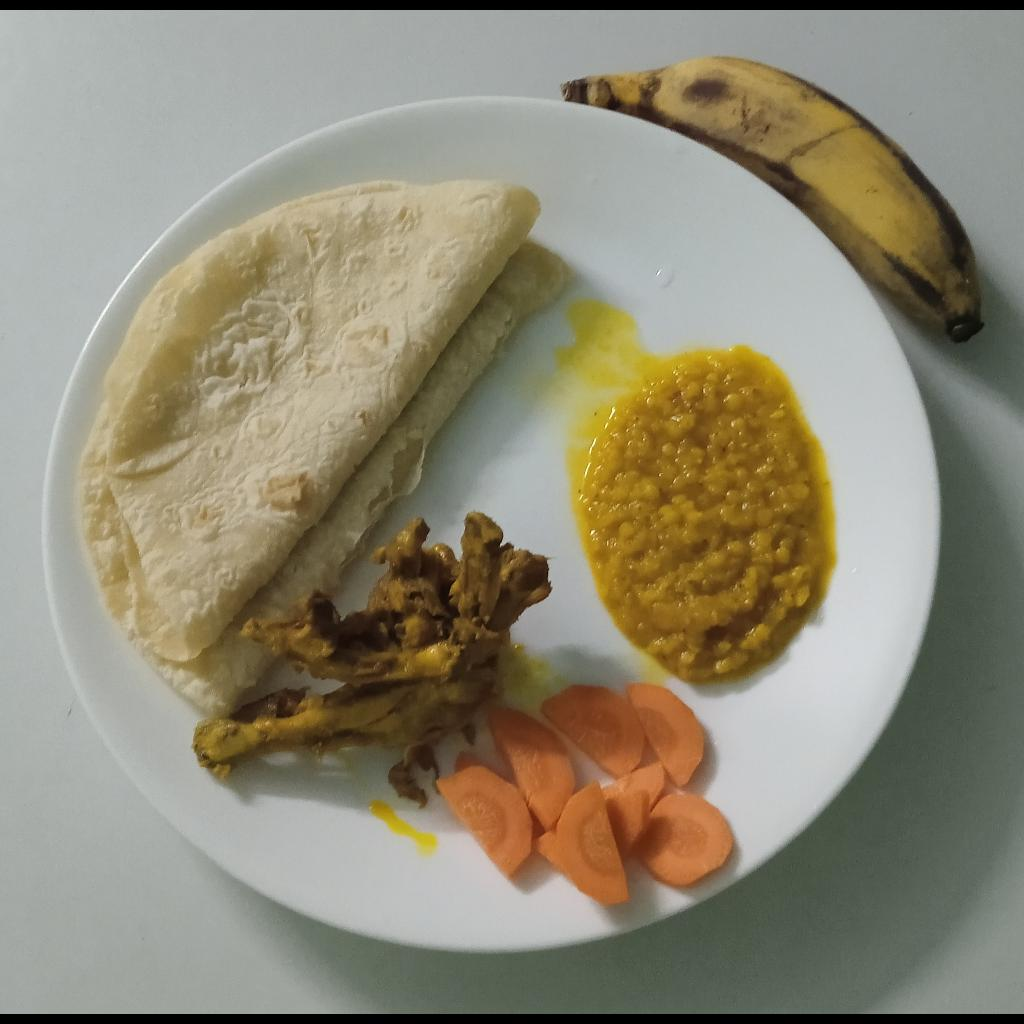banana: (561, 57, 986, 350)
carrot: (602, 738, 734, 887), (533, 781, 630, 906), (436, 766, 531, 880), (486, 711, 576, 830), (541, 683, 647, 782), (627, 686, 704, 791), (454, 752, 487, 773)
chicken: (191, 510, 553, 806)
daal: (582, 353, 826, 691)
ruti: (74, 178, 574, 720)
